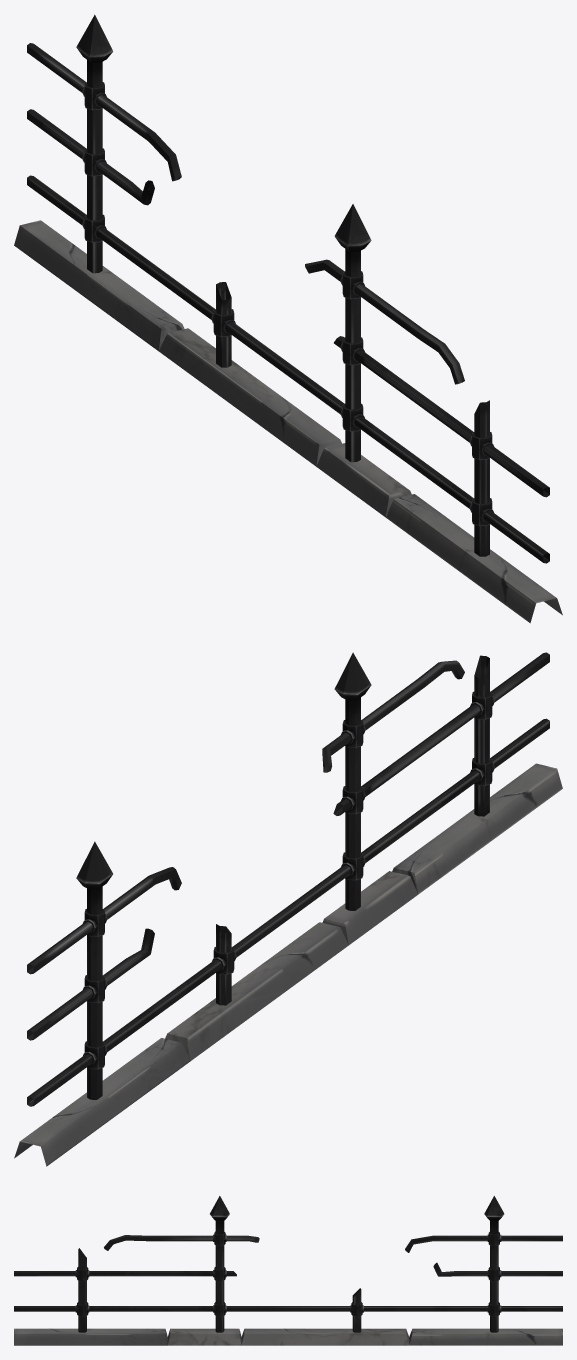
Rendered from SM_fence03.fbx.
The picture shows the model from 3 angles, top to bottom: view 1: azimuth 30°, elevation 25°; view 2: azimuth 150°, elevation 25°; view 3: azimuth 270°, elevation 25°; orthographic projection. The views are drawn at different scales.
Visible parts, largest first — view 1: SM_fence03; view 2: SM_fence03; view 3: SM_fence03.
Boxes of the visible parts, <box> form: SM_fence03: <box>14,14,562,623</box>; SM_fence03: <box>14,652,562,1166</box>; SM_fence03: <box>14,1196,562,1345</box>.
Size of the model in its own units: 0.2201 by 1.77 by 6.04.
